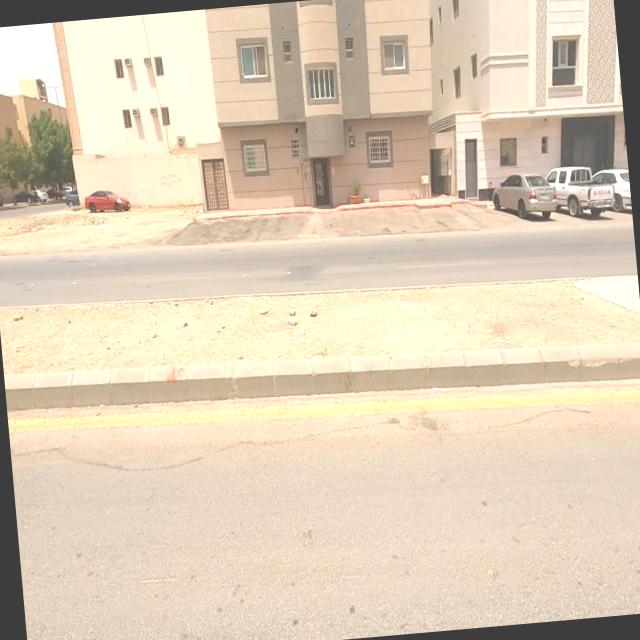debris: (172, 172, 220, 236)
